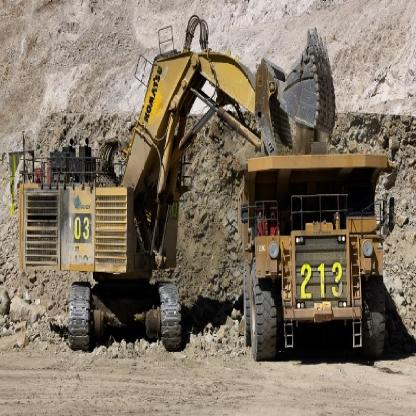dump_truck: (235, 149, 404, 368)
excavator: (12, 8, 334, 358)
